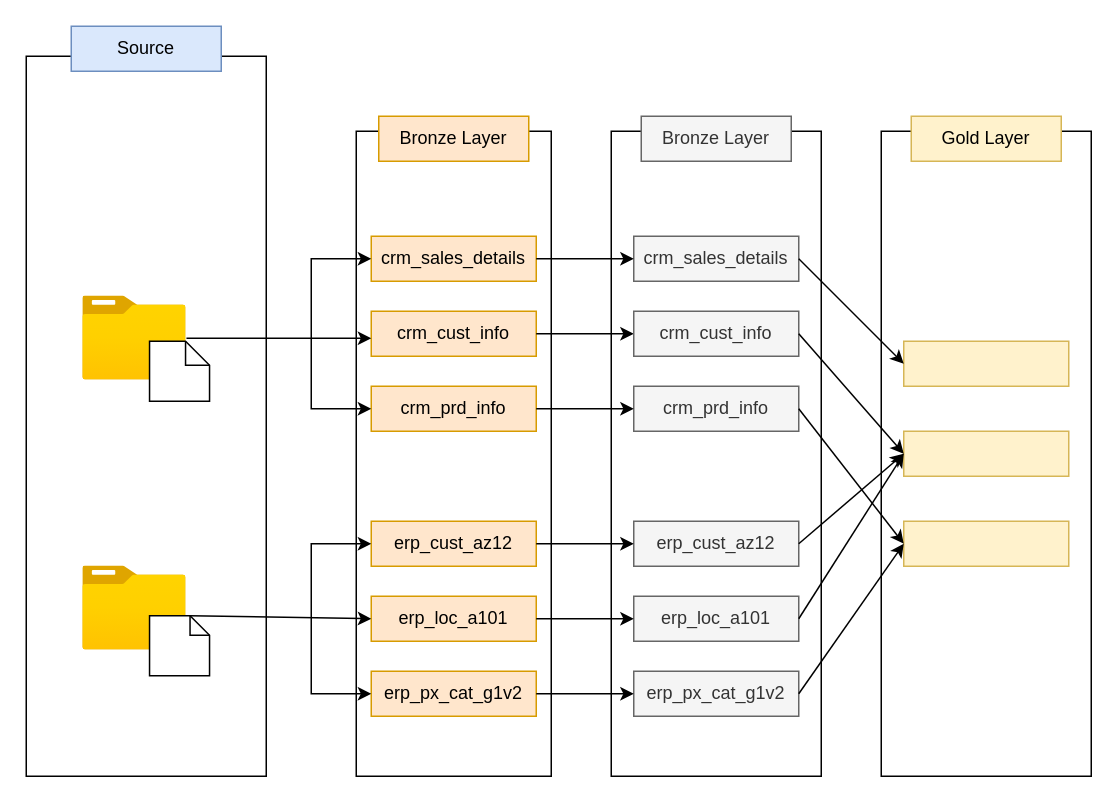
Some shapes in this 1118 by 803 pixel diagram are drawn without their labels. Here are the shapes that lost their labels. From the top down, the centre of each, then its label:
At pixel 179 370: "CRM".
At pixel 985 363: "fact_sales".
At pixel 985 453: "dim_customers".
At pixel 985 543: "dim_products".
At pixel 179 645: "ERP".
